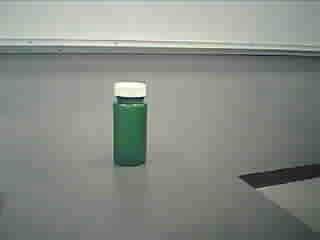Bottle C: (102, 78, 162, 175)
